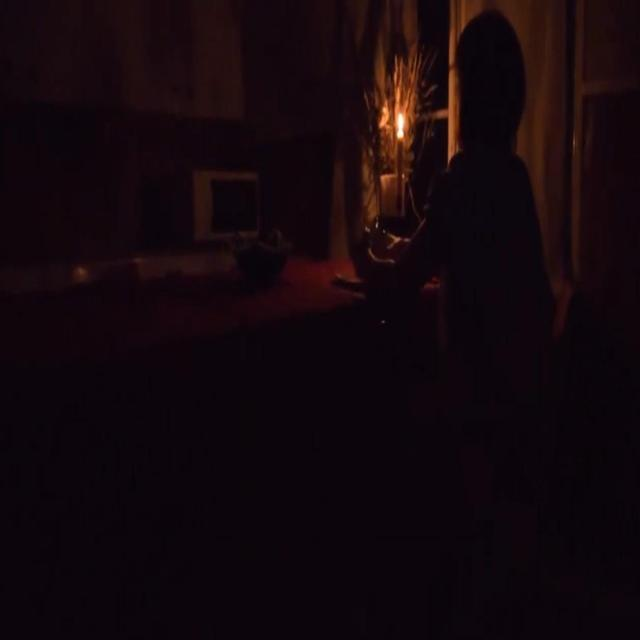smoke: (394, 106, 408, 138)
